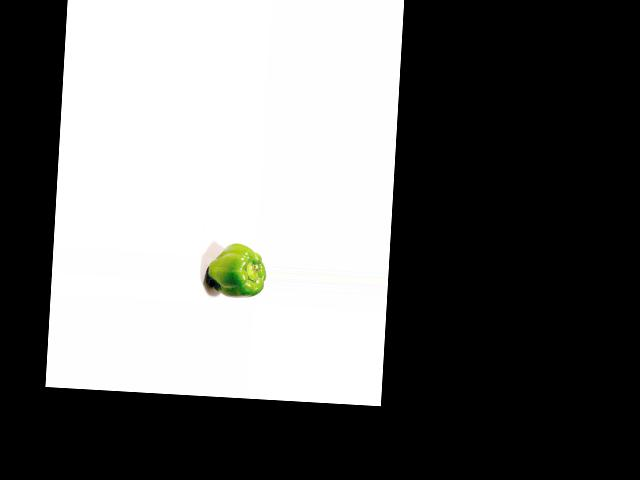bell_pepper: (203, 239, 267, 300)
